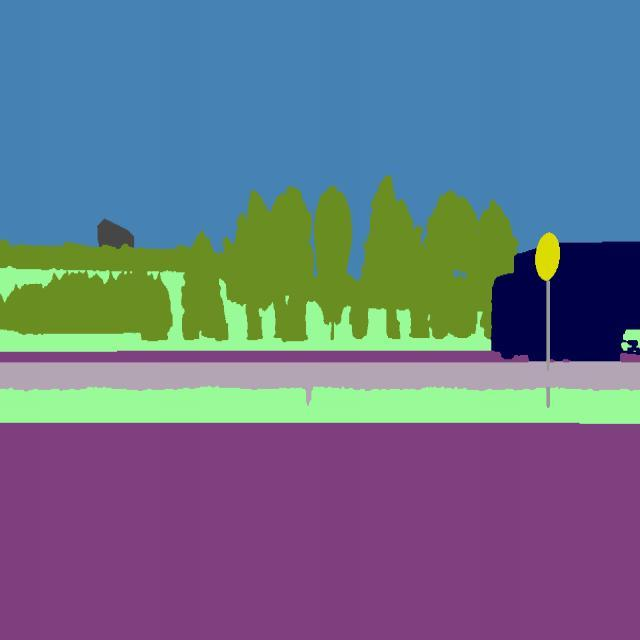safe: (489, 226, 640, 368)
